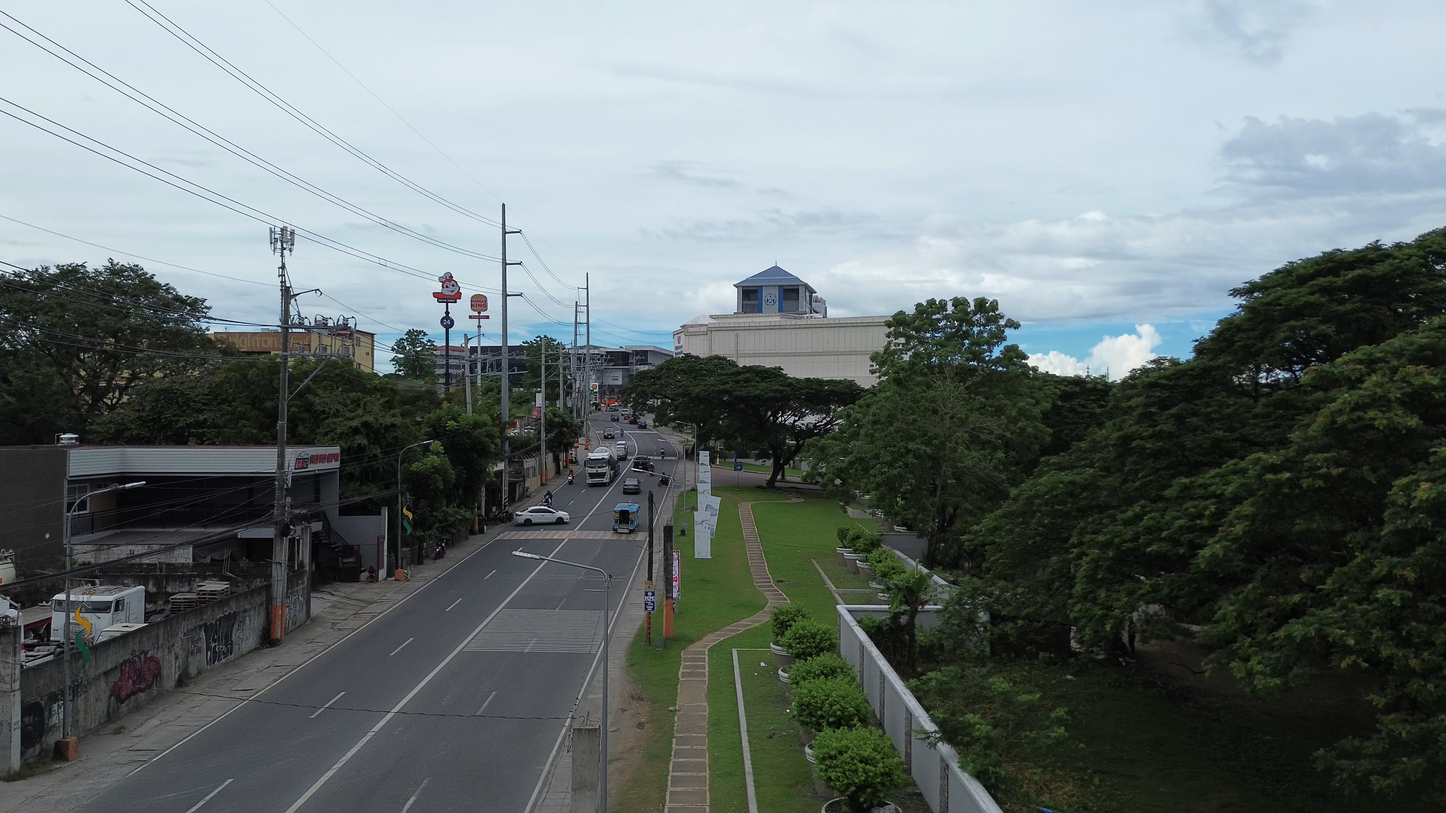car: (515, 505, 569, 525), (603, 428, 615, 439), (637, 419, 647, 429), (628, 417, 638, 424)
vehicle: (50, 585, 145, 640), (585, 447, 618, 486), (97, 623, 146, 642), (613, 503, 641, 533), (0, 550, 16, 584), (631, 457, 653, 472), (622, 478, 641, 494), (615, 440, 629, 461), (603, 428, 615, 439), (637, 419, 648, 429), (628, 416, 638, 425), (607, 404, 619, 411), (611, 414, 619, 422)
